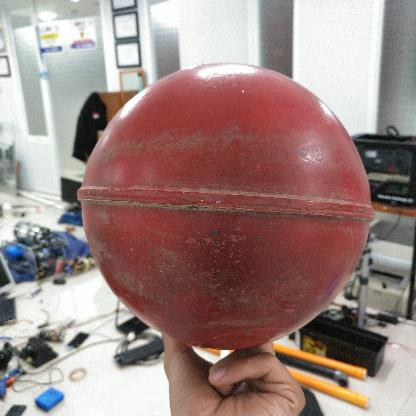red_buoy: (82, 63, 373, 354)
